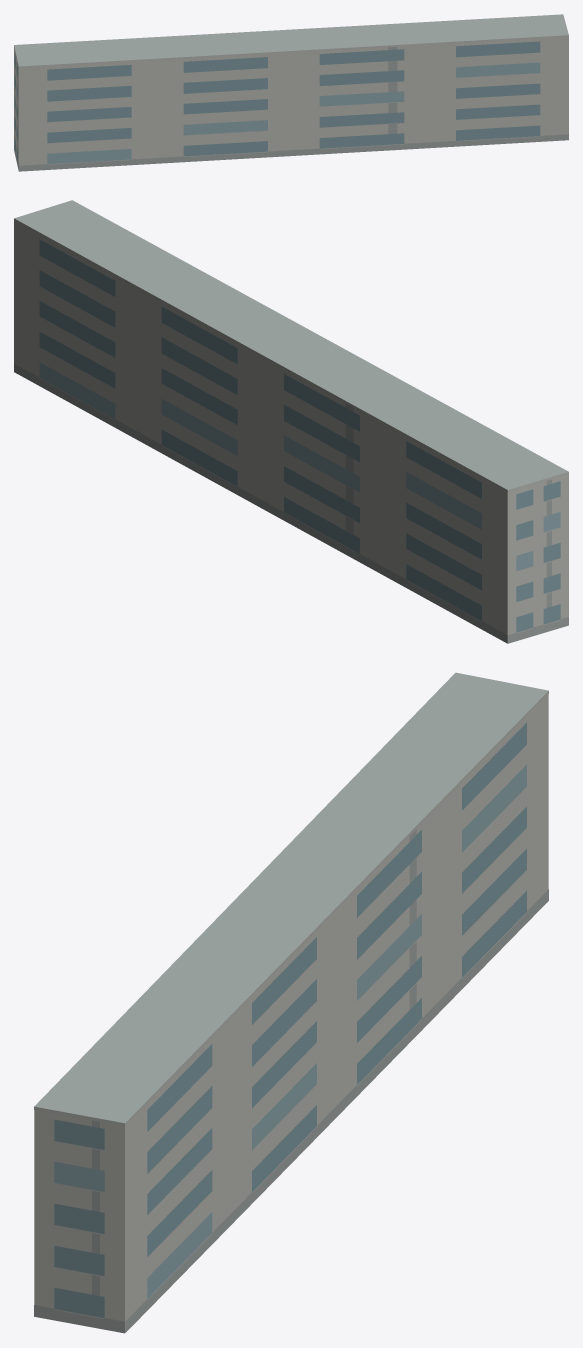
File: survey-upis-32783803.glb
3 renders of one model, top to bottom at view 1: azimuth 30°, elevation 25°; view 2: azimuth 150°, elevation 25°; view 3: azimuth 270°, elevation 25°, orthographic. The views are drawn at different scales.
Visible parts, largest first — view 1: survey-upis-32783803.tmp; view 2: survey-upis-32783803.tmp; view 3: survey-upis-32783803.tmp.
Boxes of the visible parts, x1,y1,x2,y2 form: survey-upis-32783803.tmp: (14,14,568,171); survey-upis-32783803.tmp: (14,200,568,643); survey-upis-32783803.tmp: (34,672,548,1333).
Bounding box in the file's own units: 70.16 × 15.25 × 33.86.
